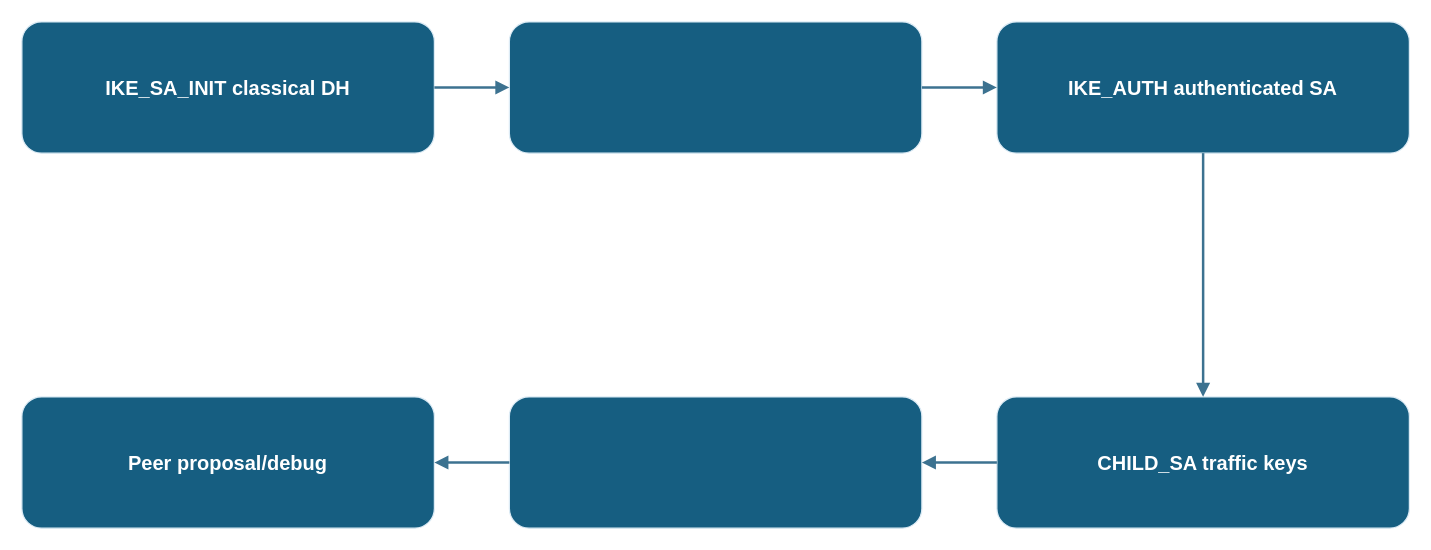
Some shapes in this 1431 by 550 pixel diagram are drawn without their labels. The box of each missing label's shape, as (x1, y1, x2, y2) in pixels:
IKE_FOLLOWUP_KE rekey: (508, 396, 922, 528)
IKE_INTERMEDIATE additional KEM: (508, 21, 922, 153)
